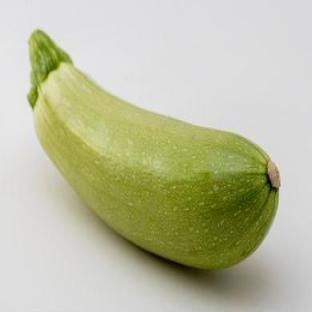Zucchini: (28, 30, 279, 268)
